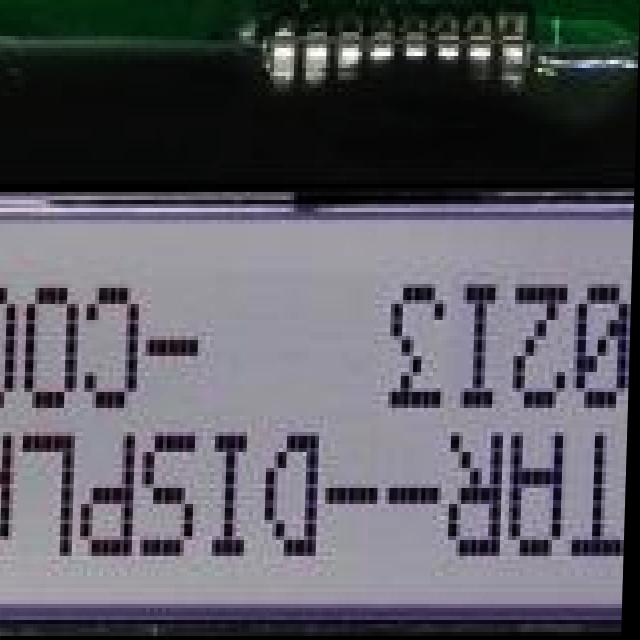display: (0, 8, 640, 640)
